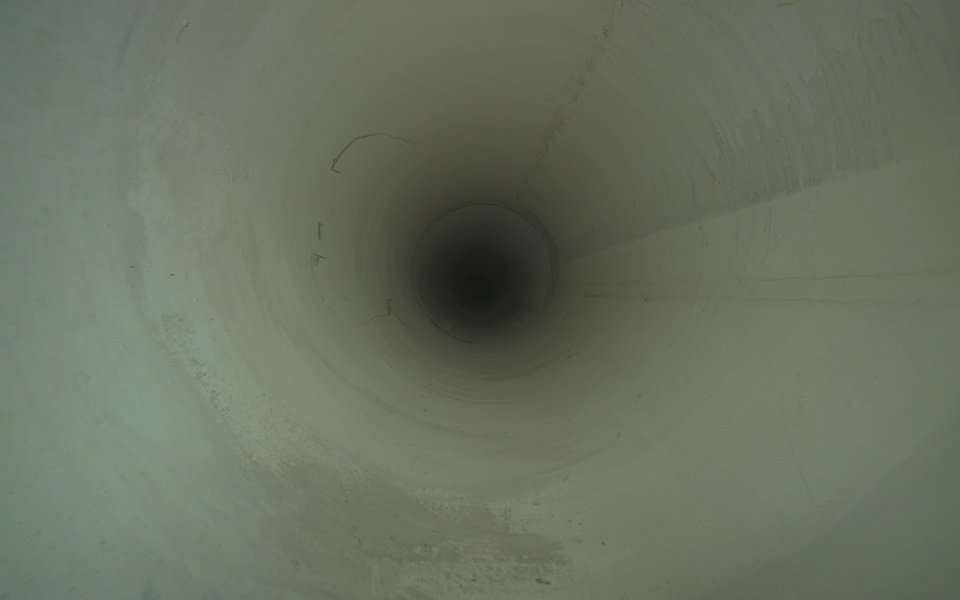circle1: (409, 200, 559, 349)
circle2: (464, 269, 494, 300)
